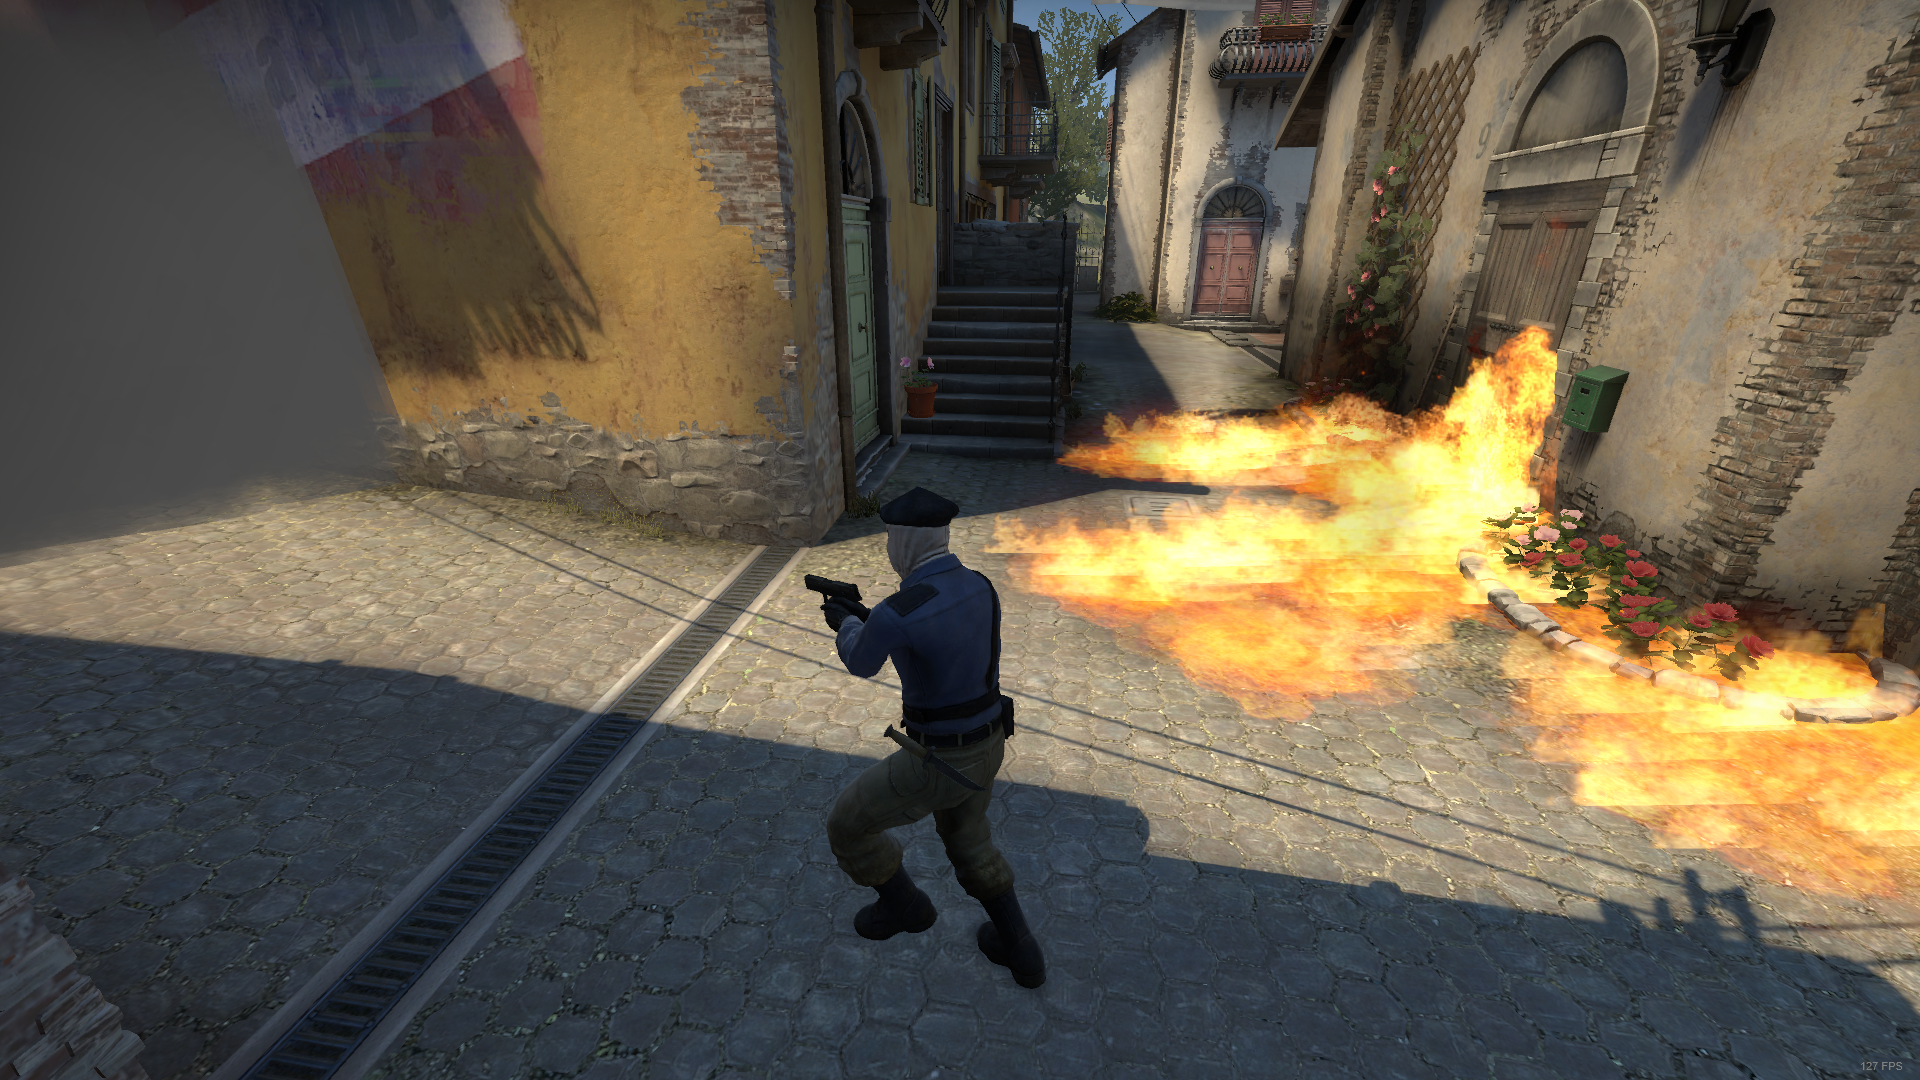t: (806, 483, 1056, 1001)
